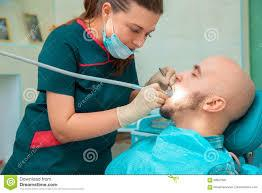No Mask: (157, 53, 237, 124)
Wore Mask Incorrectly: (100, 2, 166, 67)
